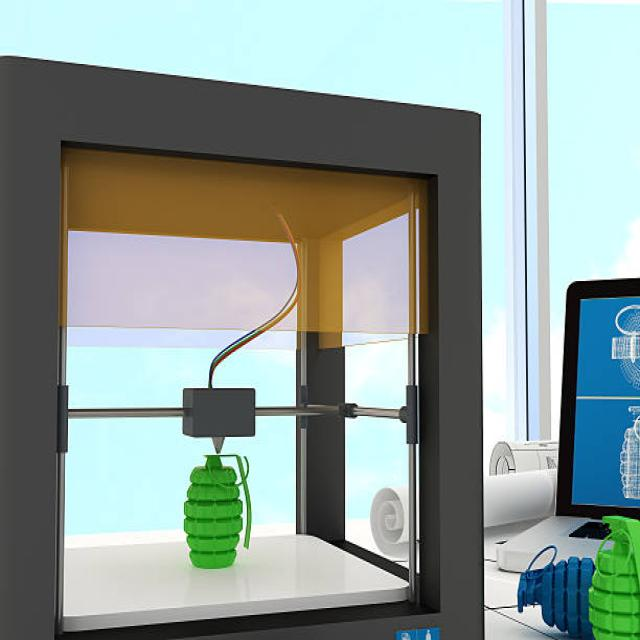grenade: (181, 451, 260, 570), (516, 546, 597, 640), (586, 511, 640, 640)
